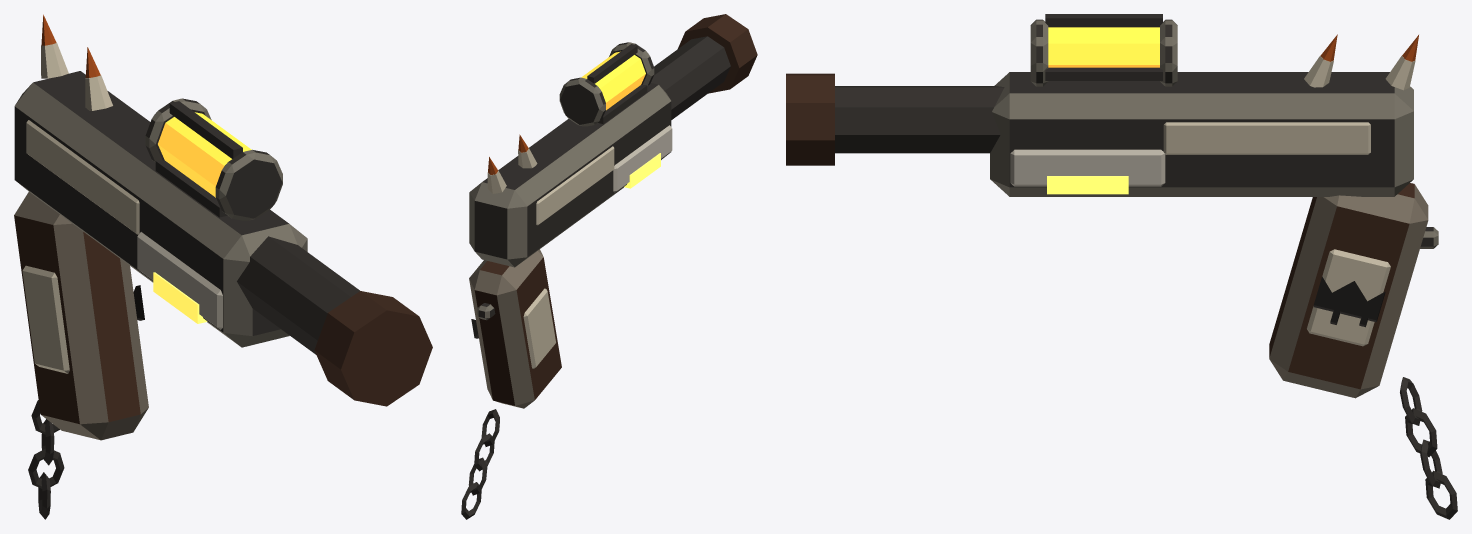
File: w_rept_pistol.glb
3 views of the same model, side by side, from view 1: azimuth 30°, elevation 25°; view 2: azimuth 150°, elevation 25°; view 3: azimuth 270°, elevation 25° (orthographic). The views are drawn at different scales.
Parts seen in each view (by area): view 1: w_rept_pistol; view 2: w_rept_pistol; view 3: w_rept_pistol.
Boxes of the visible parts, x1,y1,x2,y2 form: w_rept_pistol: (14, 14, 432, 519); w_rept_pistol: (461, 14, 757, 519); w_rept_pistol: (786, 14, 1457, 519).
Size of the model in its own units: 0.062 by 0.3334 by 0.4118.
